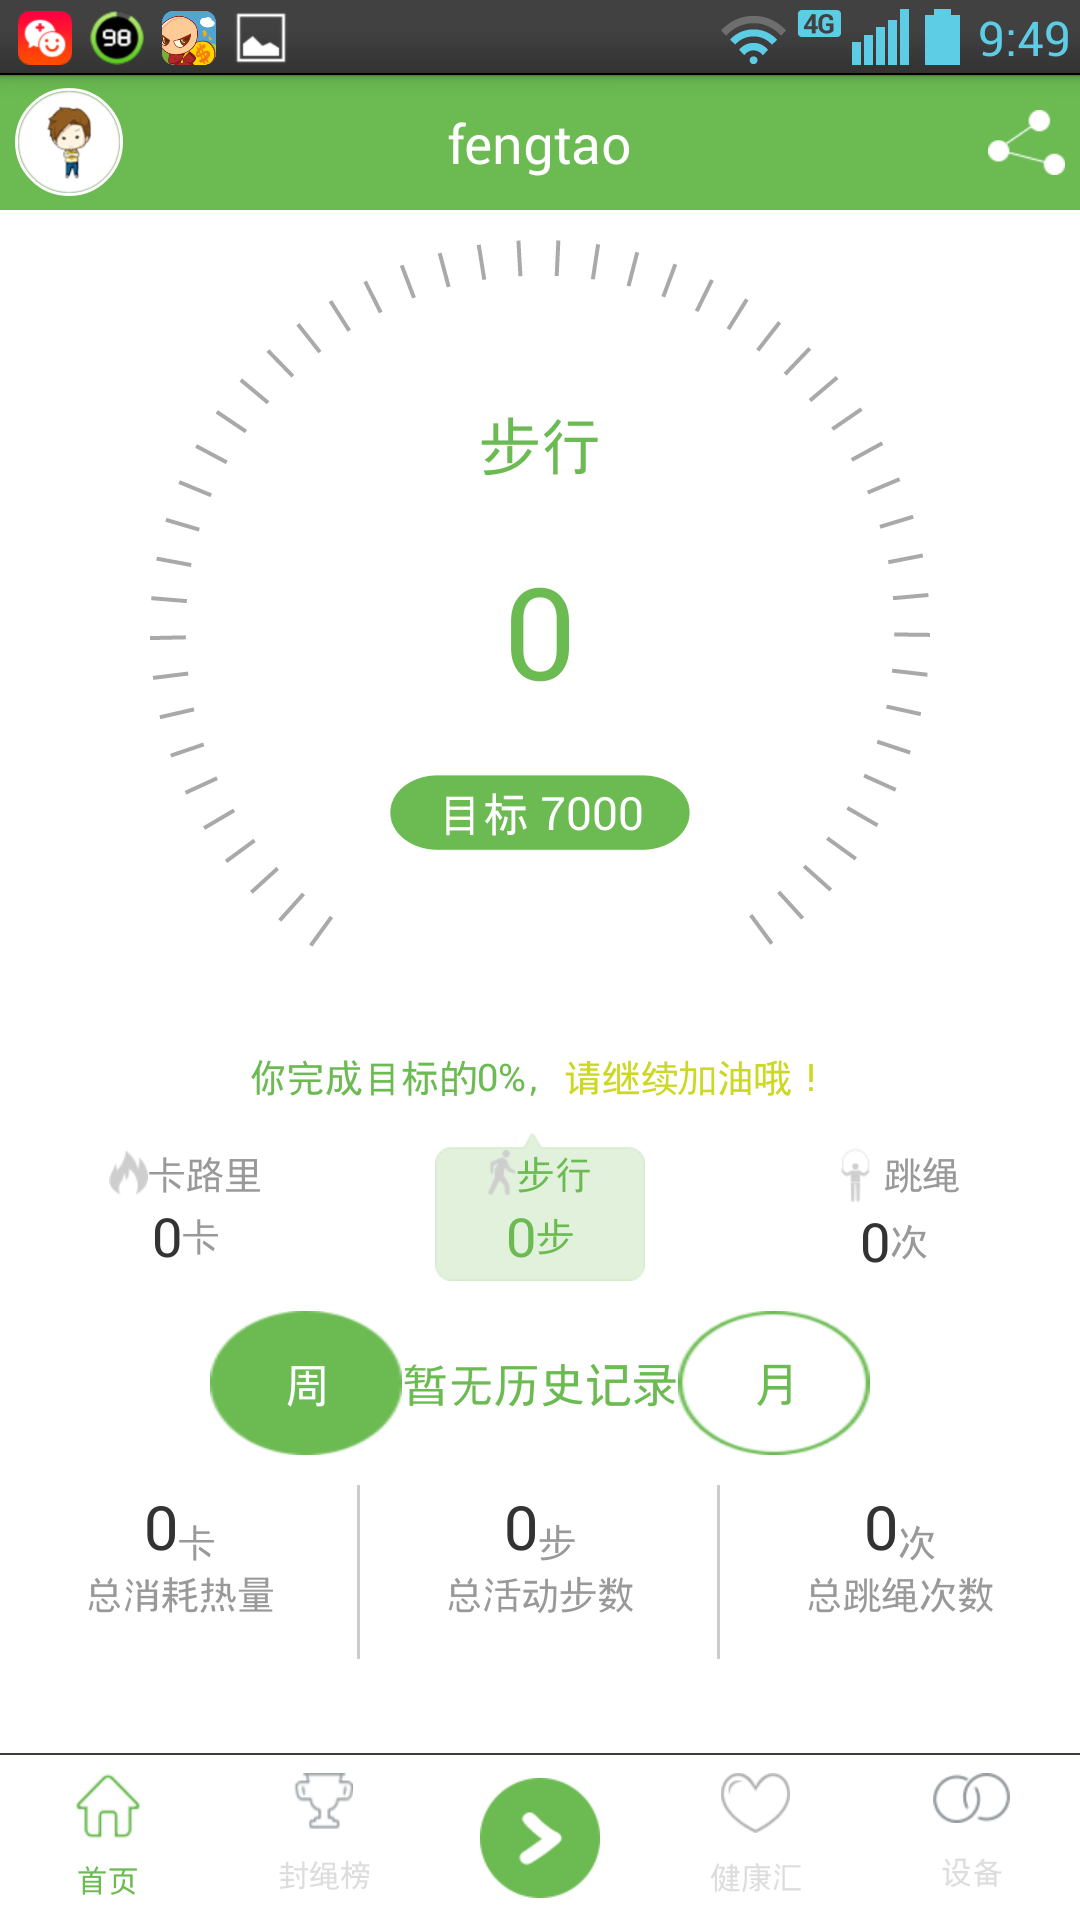imgview: (1, 83, 138, 208)
textview: (404, 1491, 661, 1635), (781, 1498, 1025, 1640), (59, 1486, 287, 1627)
